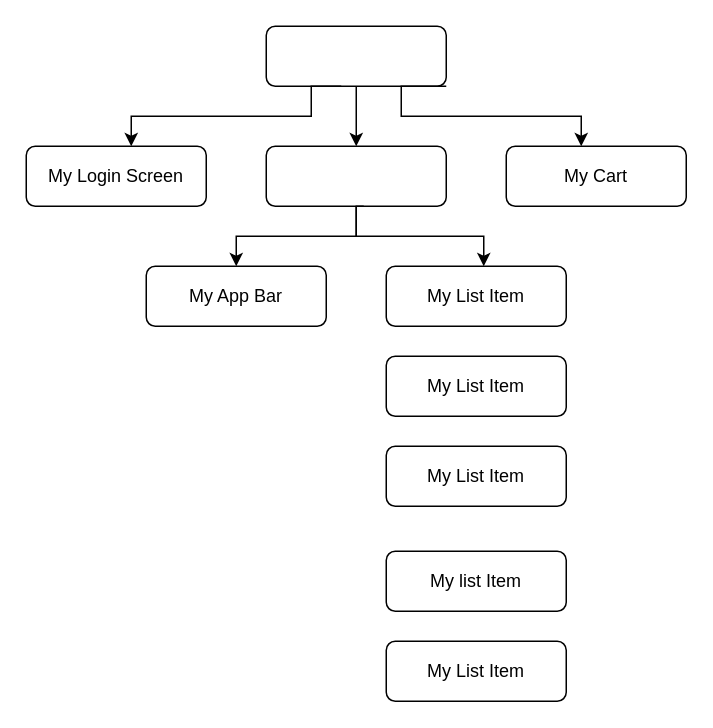
Image size: 713x728. Some labels were removed from this diagram. Each missing label, with the centre of its shape:
My App: point (355, 55)
My Catalog: point (355, 175)
